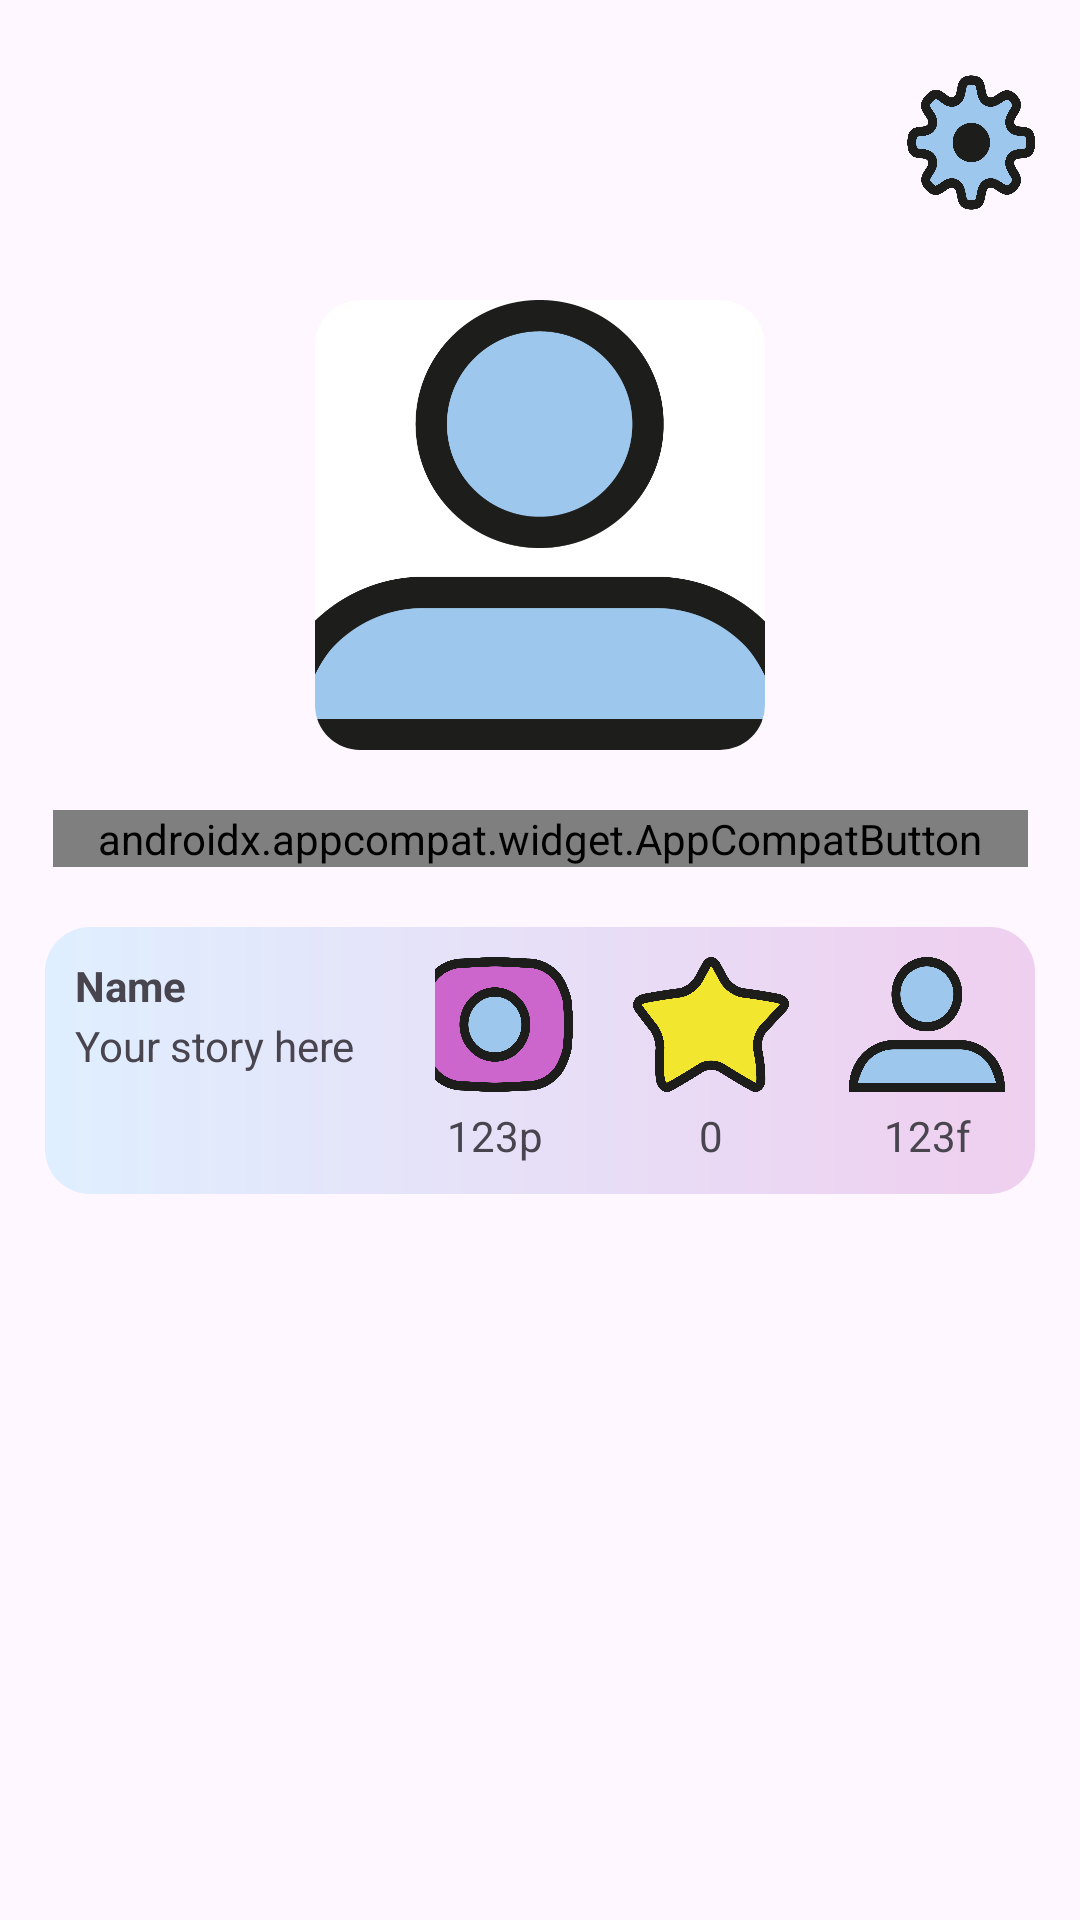

Named icons in this screenshot (1080 × 1920) and their centers, [x,y]:
photoquest settings: [971,142]
photoquest star: [711,1024]
